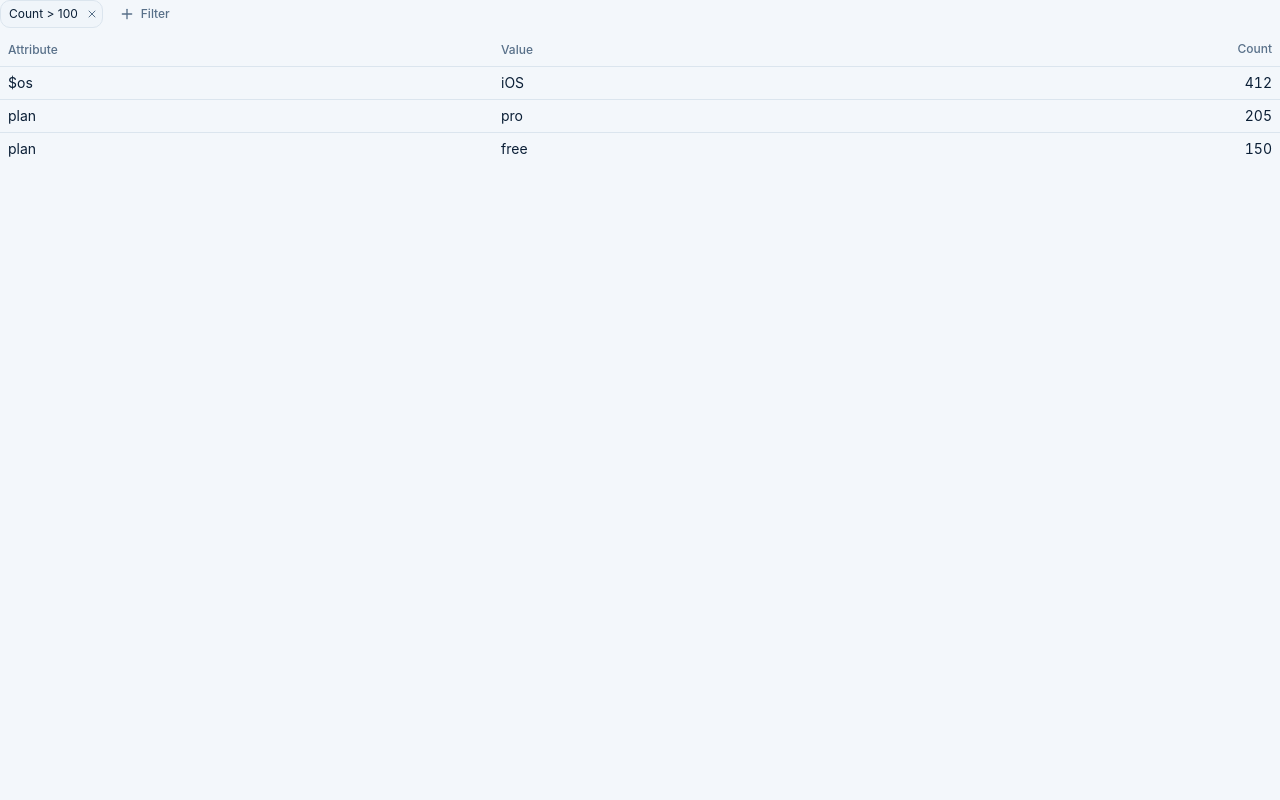
Test: table › filters the loaded rows in local mode, offering their values without asking the server
The image size is (1280, 800).
Click the button "Filter" at {"x": 144, "y": 14}, box [109,0,180,28]
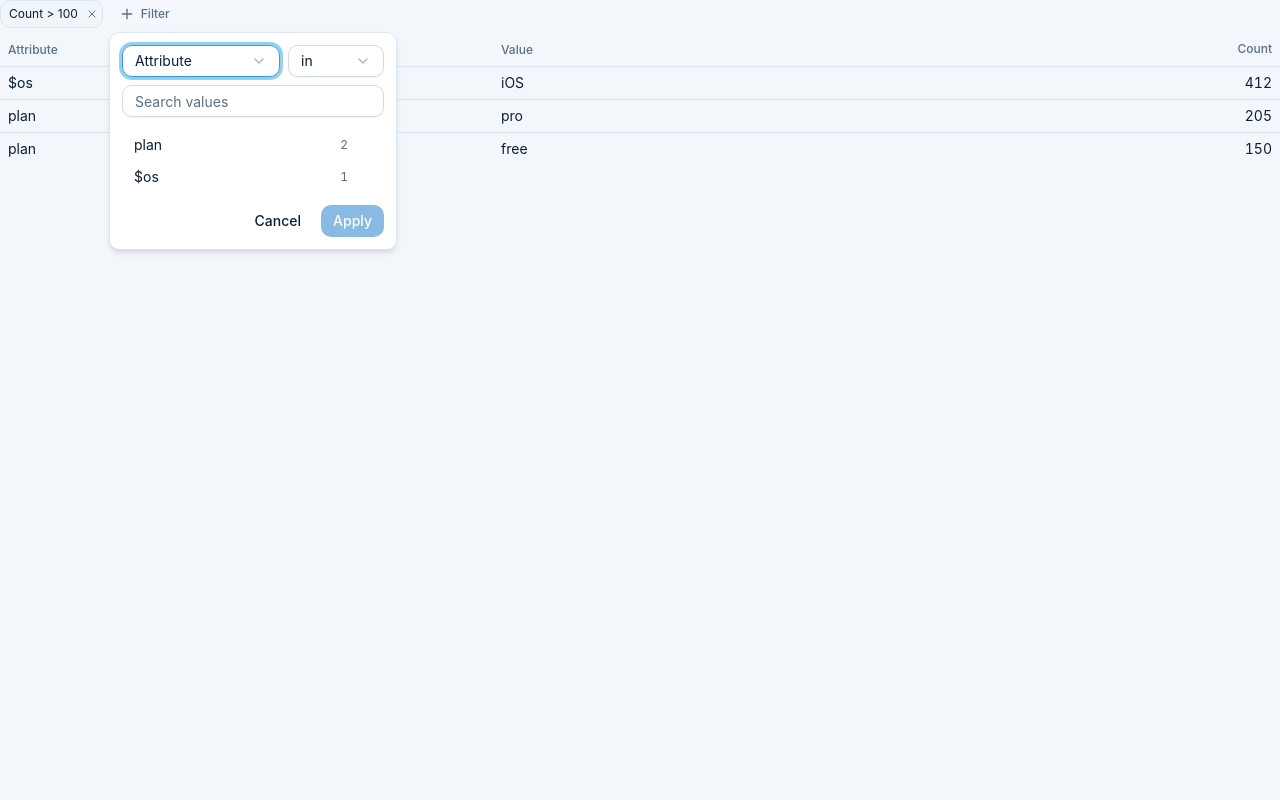
Result: the option "plan 2" is shown at [134,136,348,153]
Result: the option "$os 1" is shown at [134,168,348,185]
